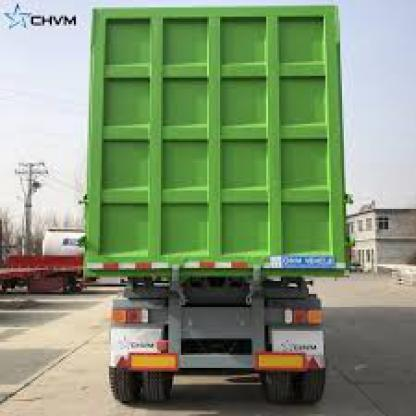tiper: (81, 6, 353, 410)
